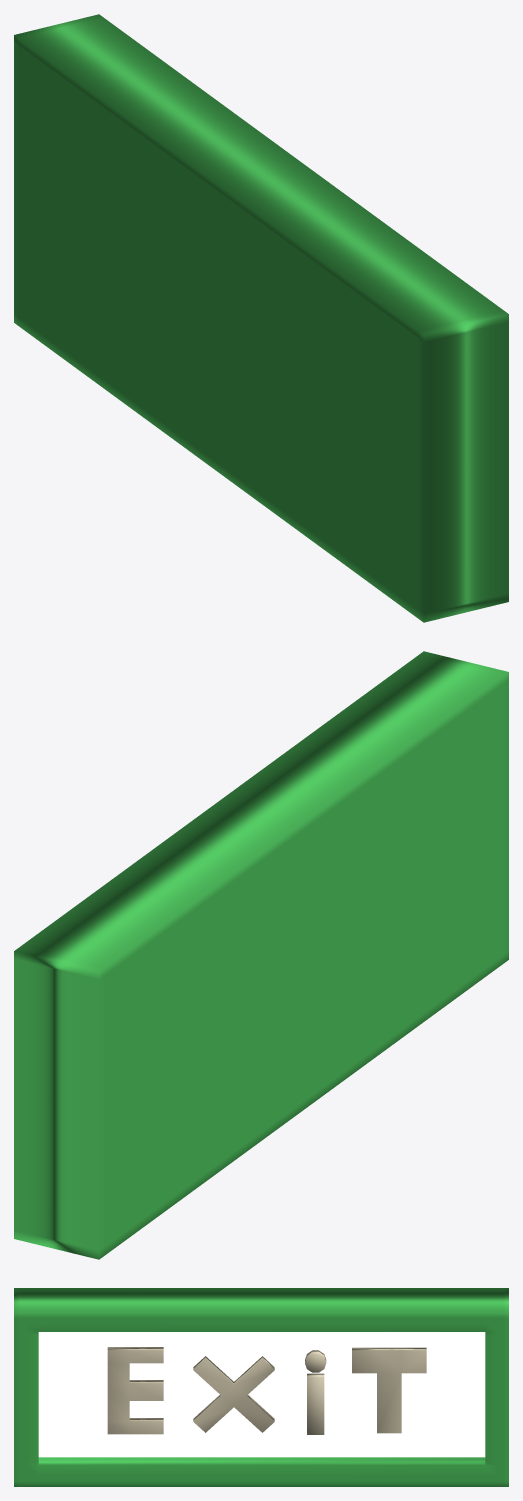
Rendered from tablet.fbx.
3 renders of one model, top to bottom at view 1: azimuth 30°, elevation 25°; view 2: azimuth 150°, elevation 25°; view 3: azimuth 270°, elevation 25°, orthographic. The views are drawn at different scales.
Parts seen in each view (by area): view 1: Cube.001; view 2: Cube.001; view 3: Cube.001, E, T, X, i.
Boxes of the visible parts, x1=… form: Cube.001: x1=14, y1=14, x2=508, y2=622; Cube.001: x1=14, y1=651, x2=508, y2=1259; Cube.001: x1=14, y1=1288, x2=508, y2=1486; E: x1=107, y1=1347, x2=163, y2=1434; T: x1=352, y1=1347, x2=426, y2=1433; X: x1=193, y1=1356, x2=274, y2=1432; i: x1=305, y1=1350, x2=326, y2=1434.
Bounding box in the file's own units: 102 × 330 × 852.
